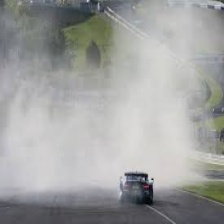smoke: (10, 52, 191, 176)
